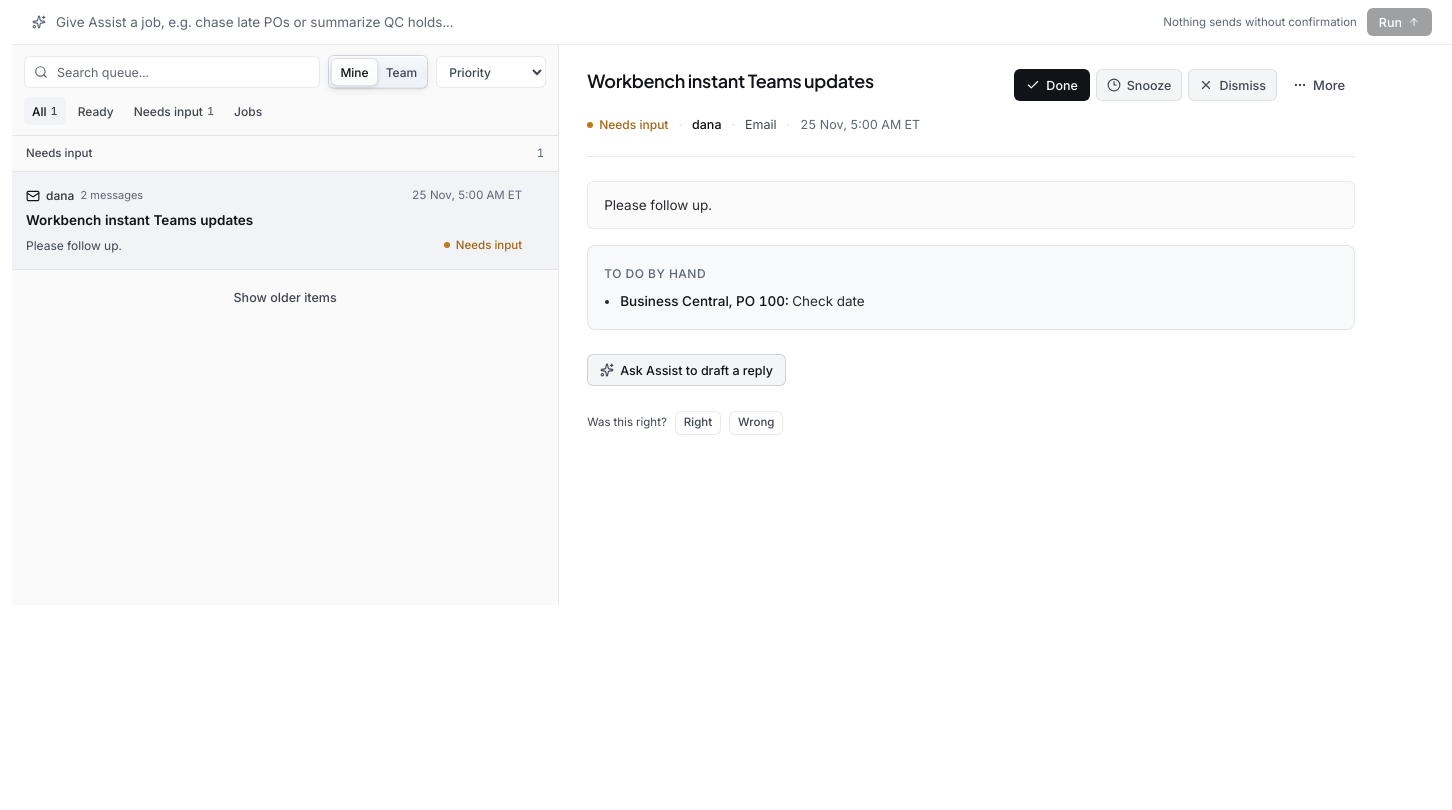
Test: AssistWorkbench optimistic item actions › defaults to Mine filter hiding other people's items, collapses RE: thread duplicates, and switches to Team
Expected: the number of buttons with test id "assist-queue-item" is 1, top-left (12, 172), bottom-right (558, 269)
Expected: the button with test id "assist-queue-item" shows "Workbench instant Teams updates", top-left (12, 172), bottom-right (558, 269)
Note: More menu opens with Make it a task and Not needed visible
Click the button "More". click: [1319, 85]
box: top-left (1283, 69), bottom-right (1355, 101)
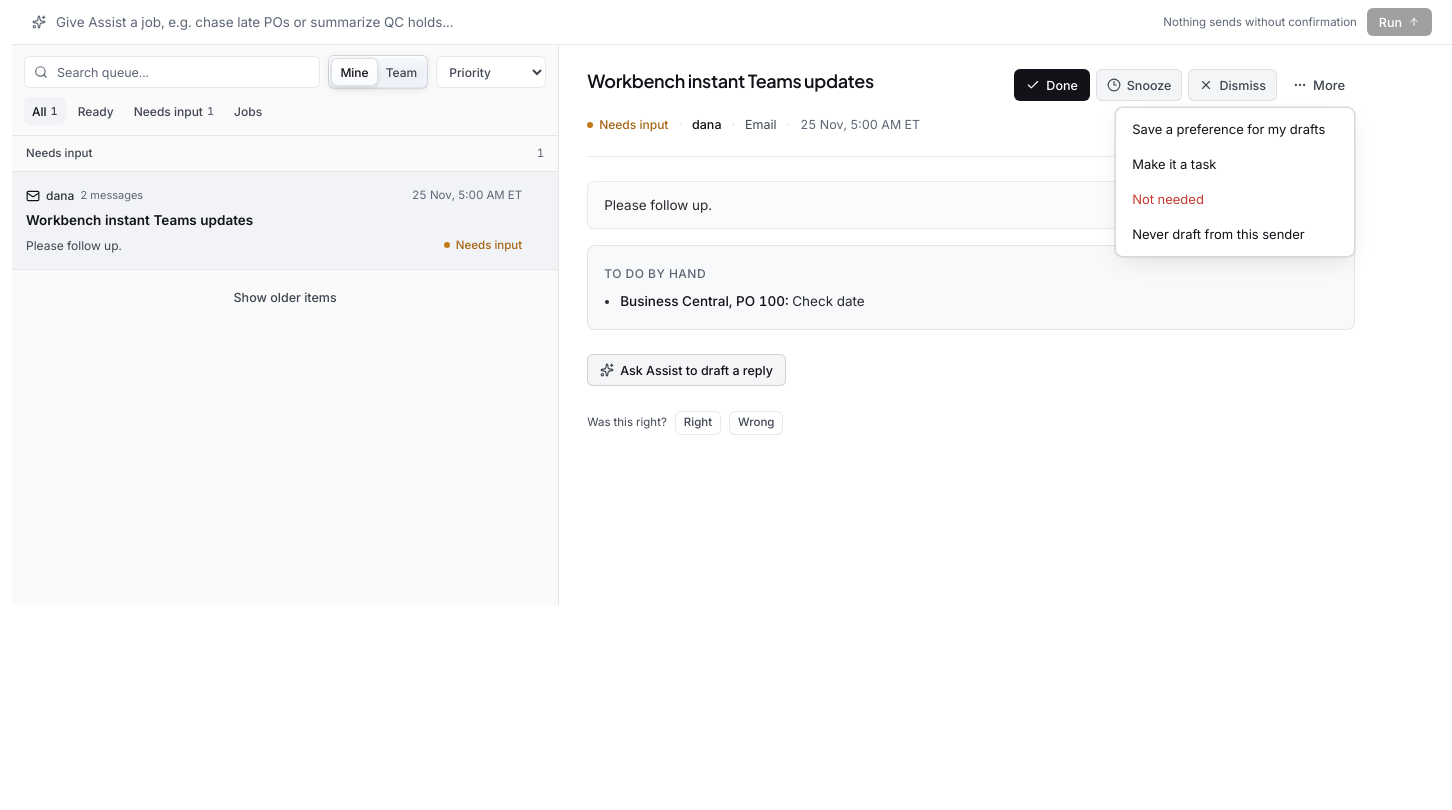
Result: the menu item "Make it a task" is shown at top-left (1120, 147), bottom-right (1350, 182)
Result: the menu item "Not needed" is shown at top-left (1120, 182), bottom-right (1350, 217)
Note: Switching to Team shows the other person's item too
Click the button "Team". click: [401, 72]
box: top-left (378, 58), bottom-right (425, 86)
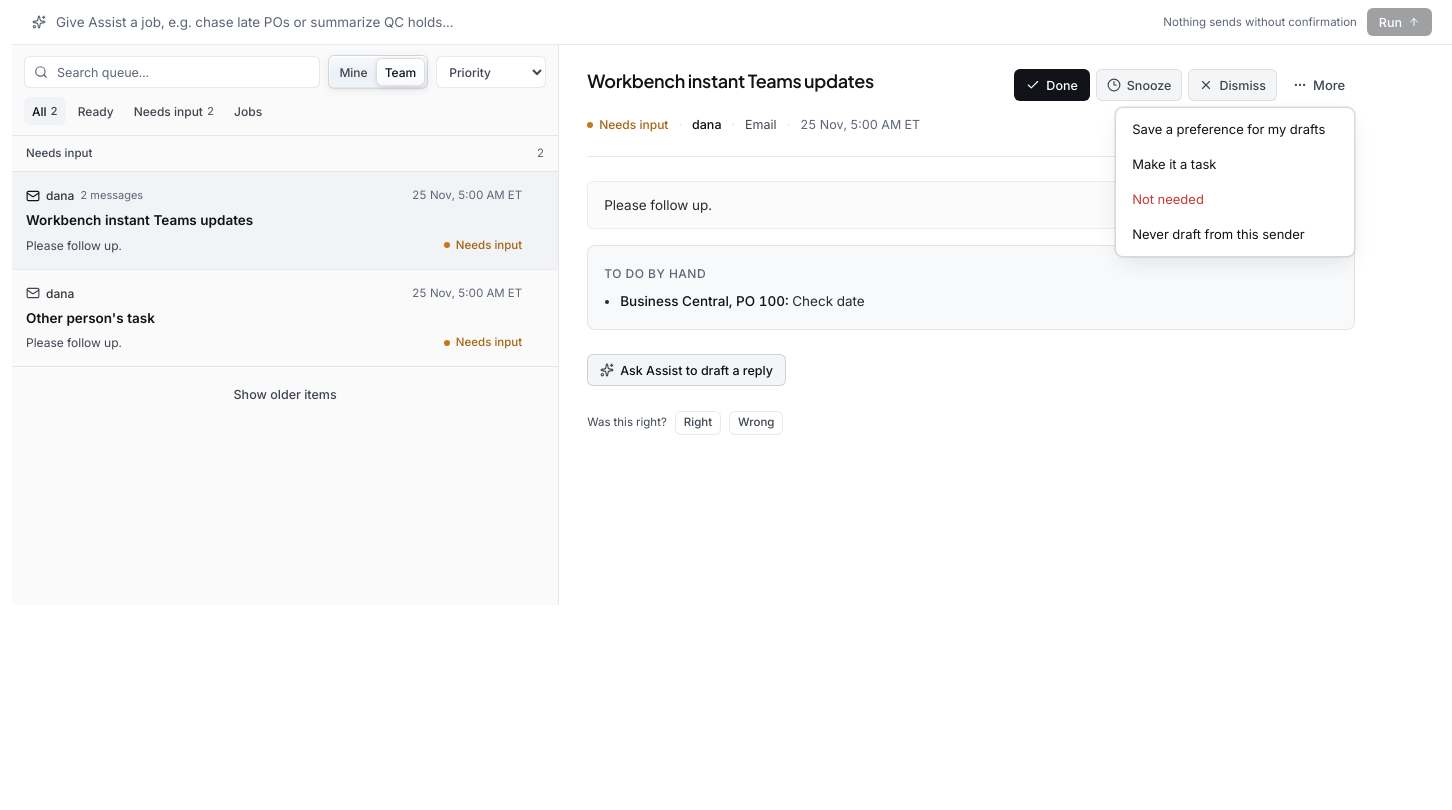
Result: the number of buttons with test id "assist-queue-item" is 2 at top-left (12, 172), bottom-right (558, 269); top-left (12, 270), bottom-right (558, 366)
